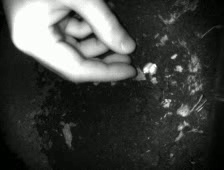corn: (141, 60, 154, 76), (147, 62, 159, 77), (108, 79, 118, 88), (90, 79, 101, 87)
